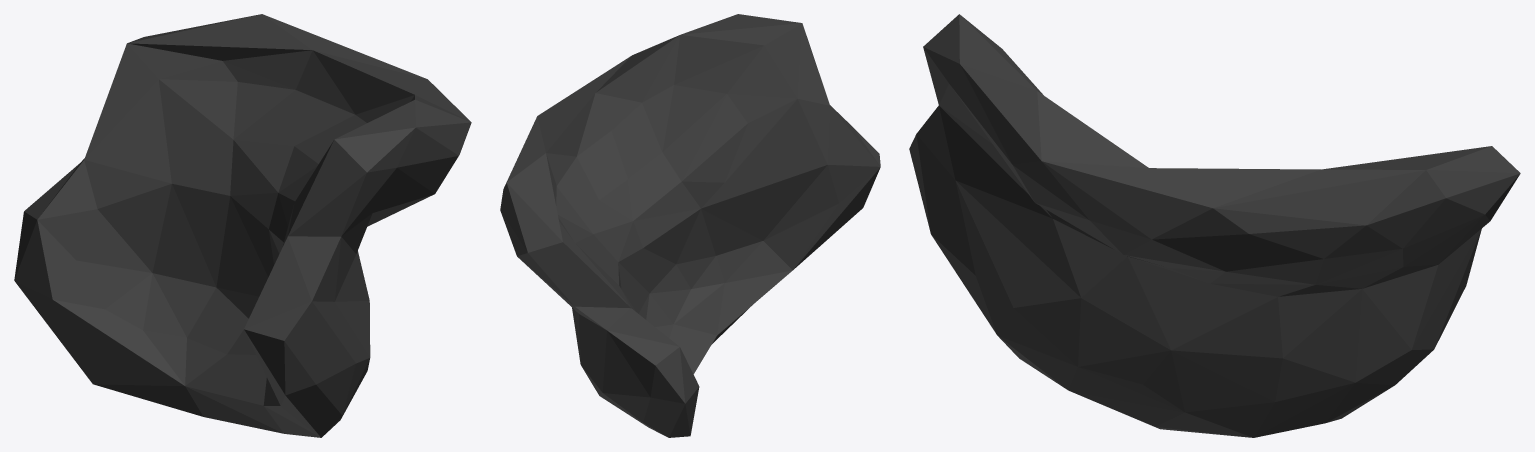
The model's file is Tibia_groove_lat_malleolus.glb.
The picture shows the model from 3 angles, left to right: view 1: azimuth 30°, elevation 25°; view 2: azimuth 150°, elevation 25°; view 3: azimuth 270°, elevation 25°; orthographic projection. The views are drawn at different scales.
Visible parts, largest first — view 1: Tibia_groove_lat_malleolus; view 2: Tibia_groove_lat_malleolus; view 3: Tibia_groove_lat_malleolus.
Part boxes in pixels (x1,y1,x2,y2): Tibia_groove_lat_malleolus: (14, 14, 471, 437); Tibia_groove_lat_malleolus: (500, 14, 880, 437); Tibia_groove_lat_malleolus: (909, 14, 1520, 437).
Bounding box in the file's own units: 0.00681 × 0.00822 × 0.0112.
1 material, 1 textured.
